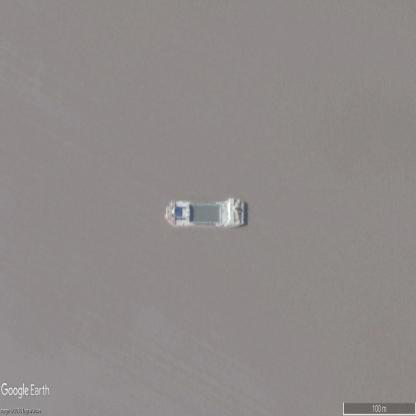ship: (165, 200, 248, 227)
